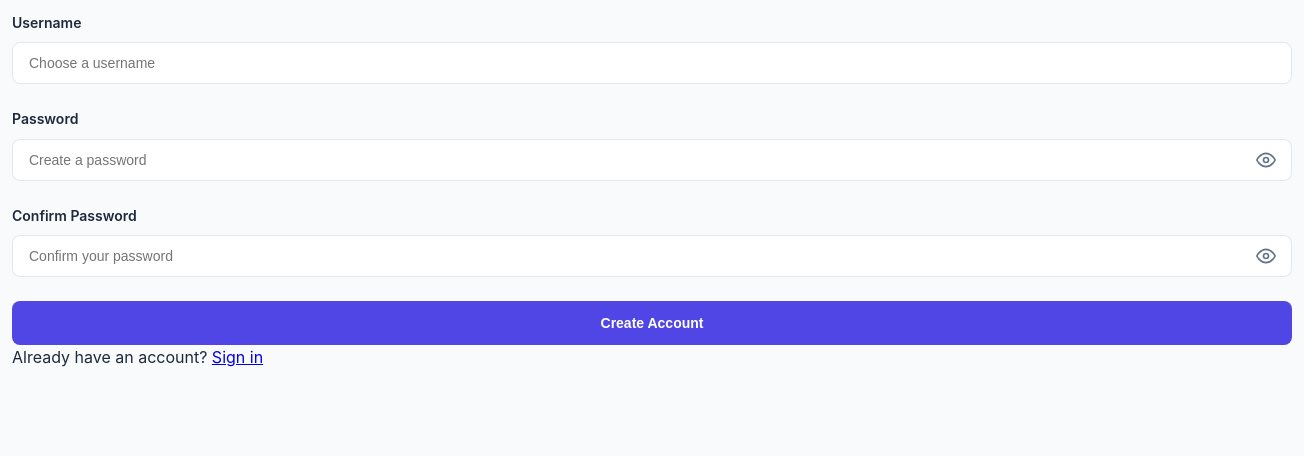
RegisterForm › Form validation › should show validation errors for empty fields
Click the button "Create Account": (652, 323) left=12, top=301, right=1292, bottom=345
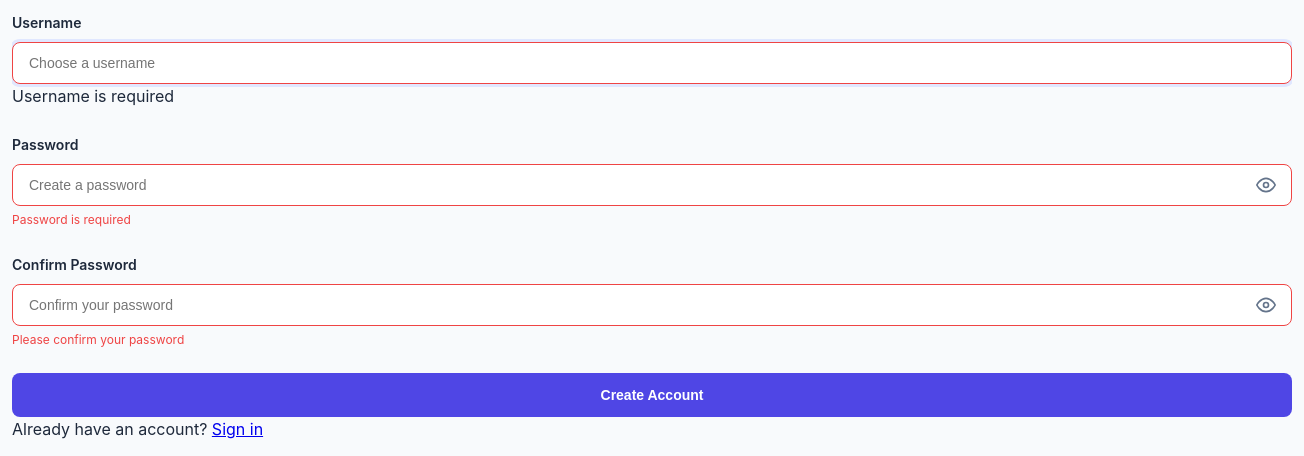
Now the text "Username is required" is shown, box left=12, top=86, right=174, bottom=106
Now the text "Password is required" is shown, box left=12, top=212, right=131, bottom=227
Now the text "Please confirm your password" is shown, box left=12, top=332, right=184, bottom=347
